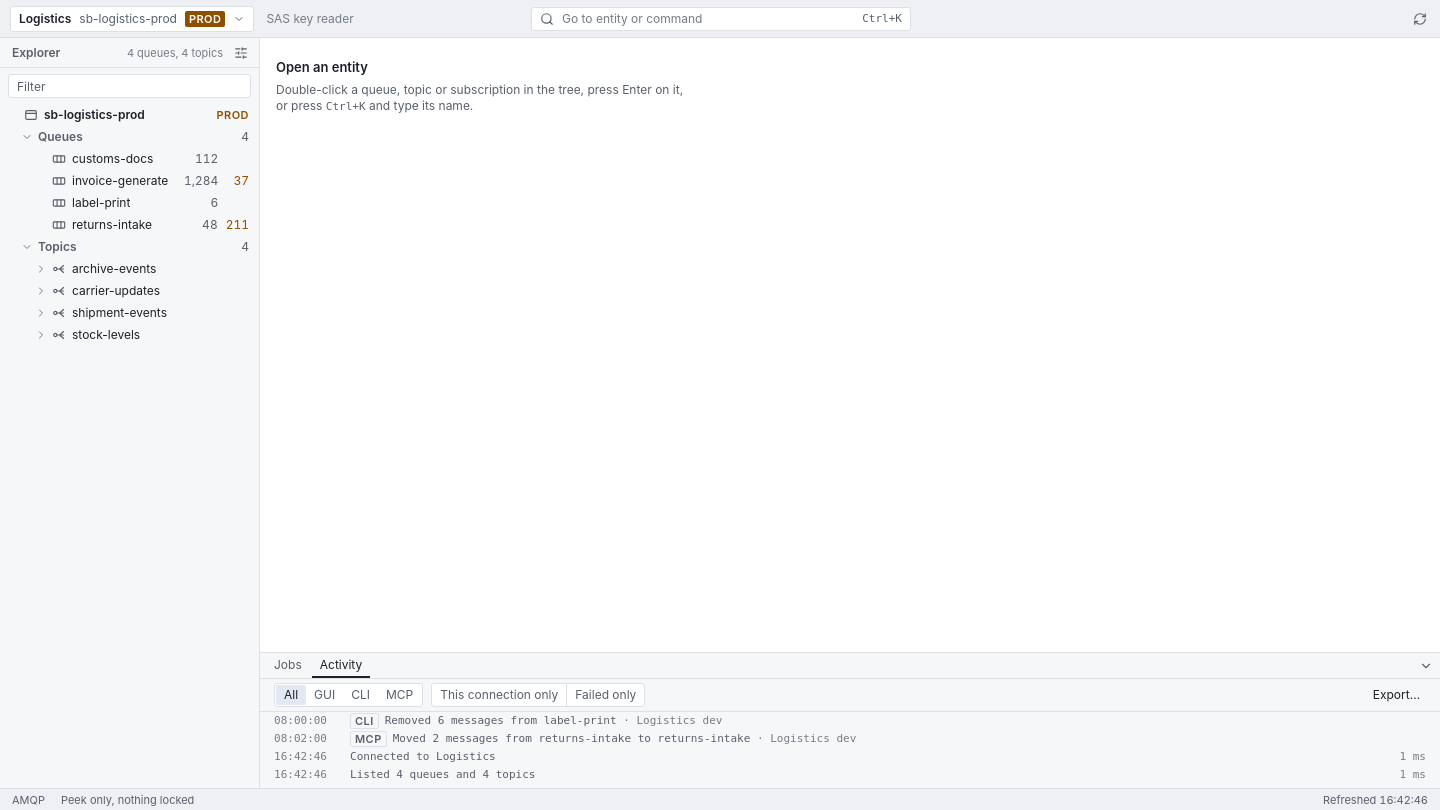
Test: dashboard and tree after review › the tree menu offers operations only on entity rows, grouped, with Session state only for session entities
Right-click the list item "Queues 4".
right_click(60, 136)  # box [0,126,259,148]
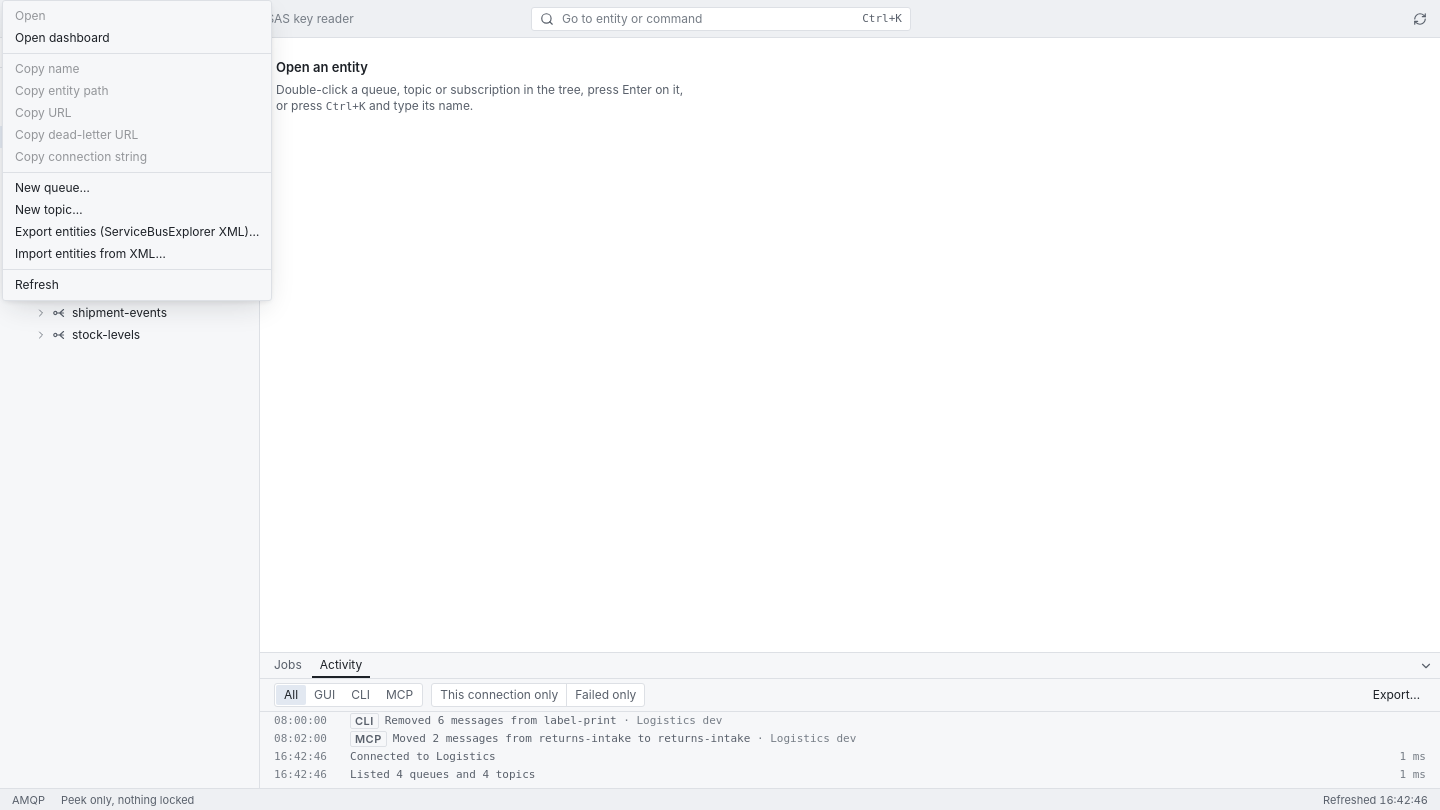
Check: the menu item "Send messages" is not shown
Press Escape
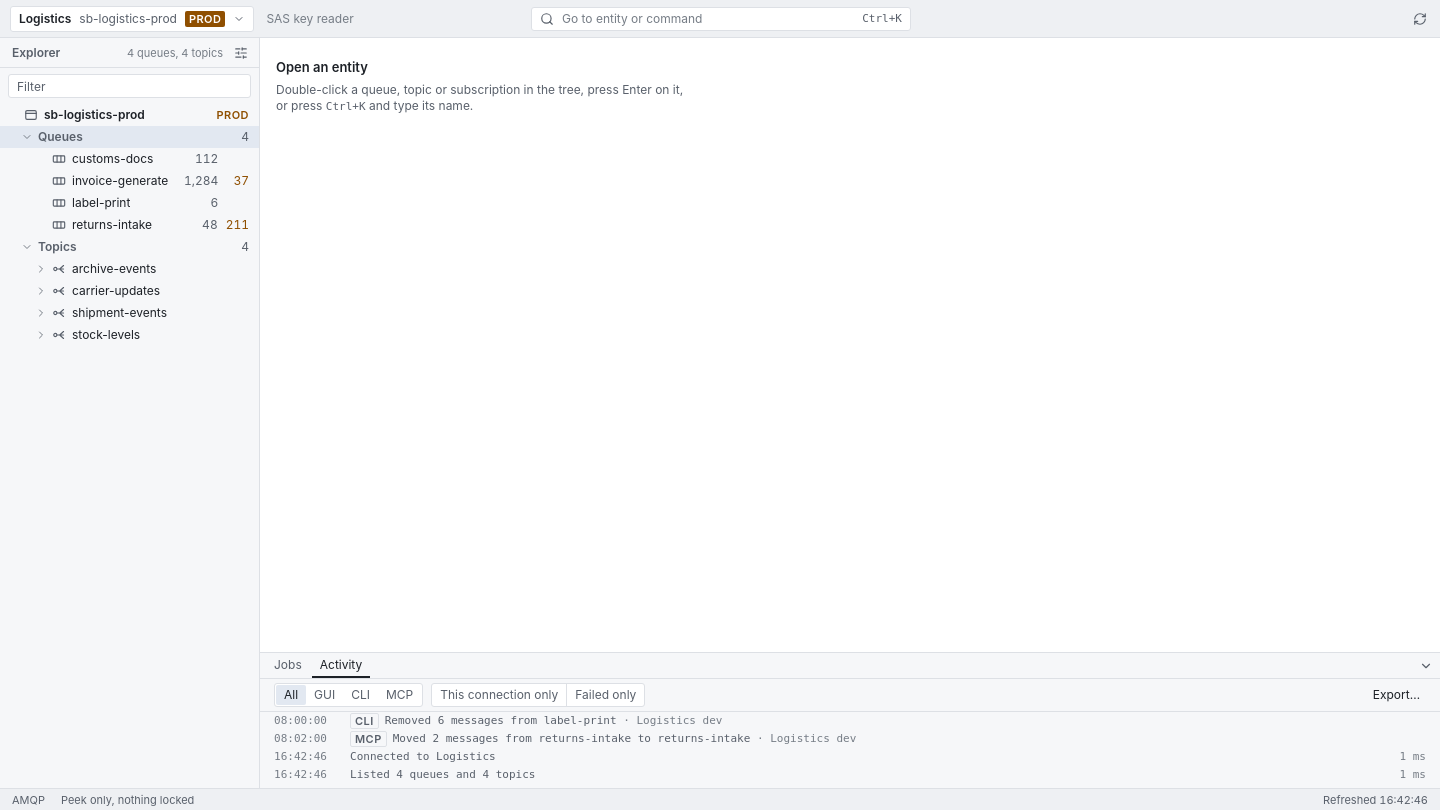
Right-click the list item "label-print 6".
right_click(101, 202)  # box [52,195,218,210]
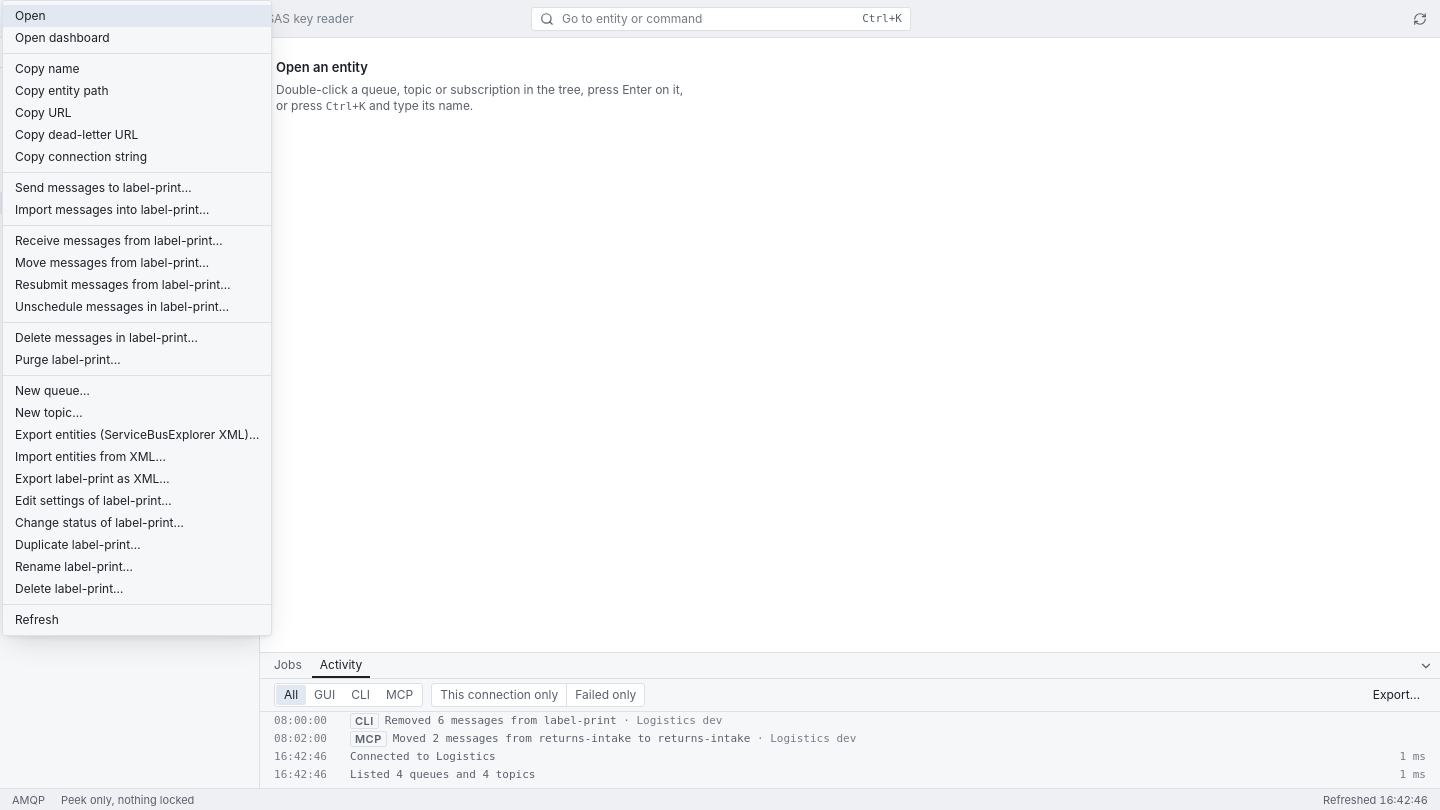
Check: the menu item "Unschedule messages in label-print…" is shown, box [15,299,229,314]
Press Escape
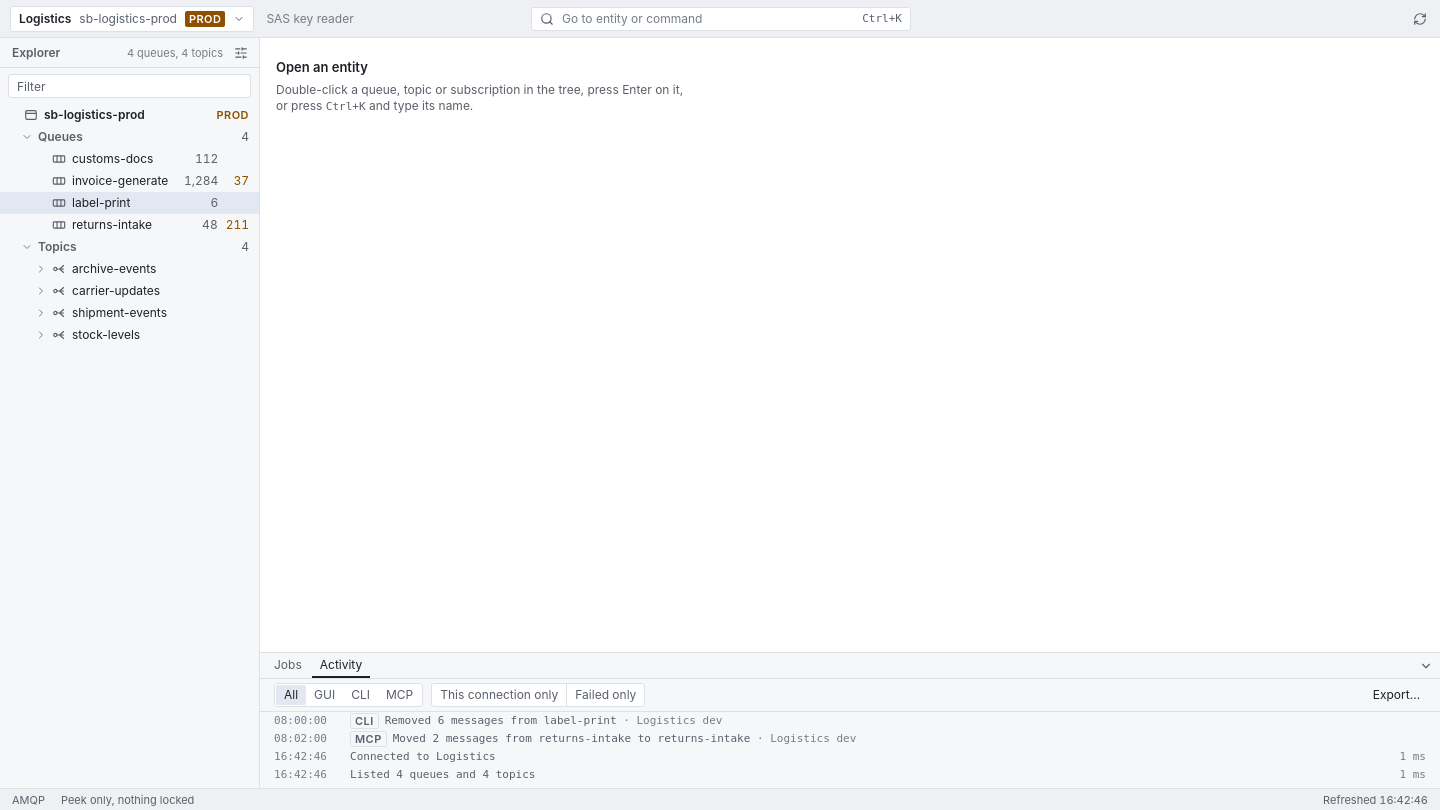
Right-click the list item "returns-intake 48 211".
right_click(150, 224)  # box [52,217,249,232]
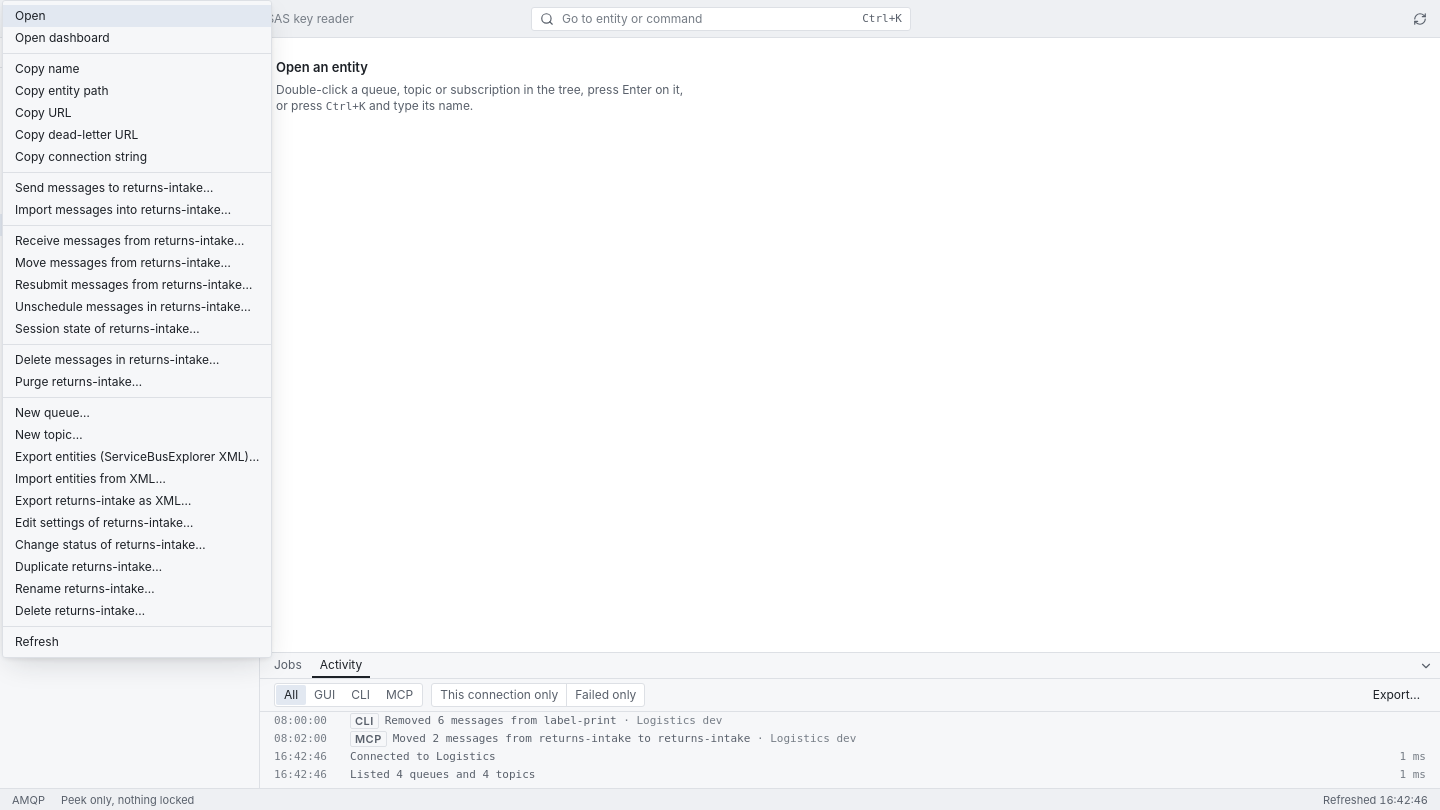
Check: the menu item "Session state of returns-intake…" is shown, box [15,321,200,336]
